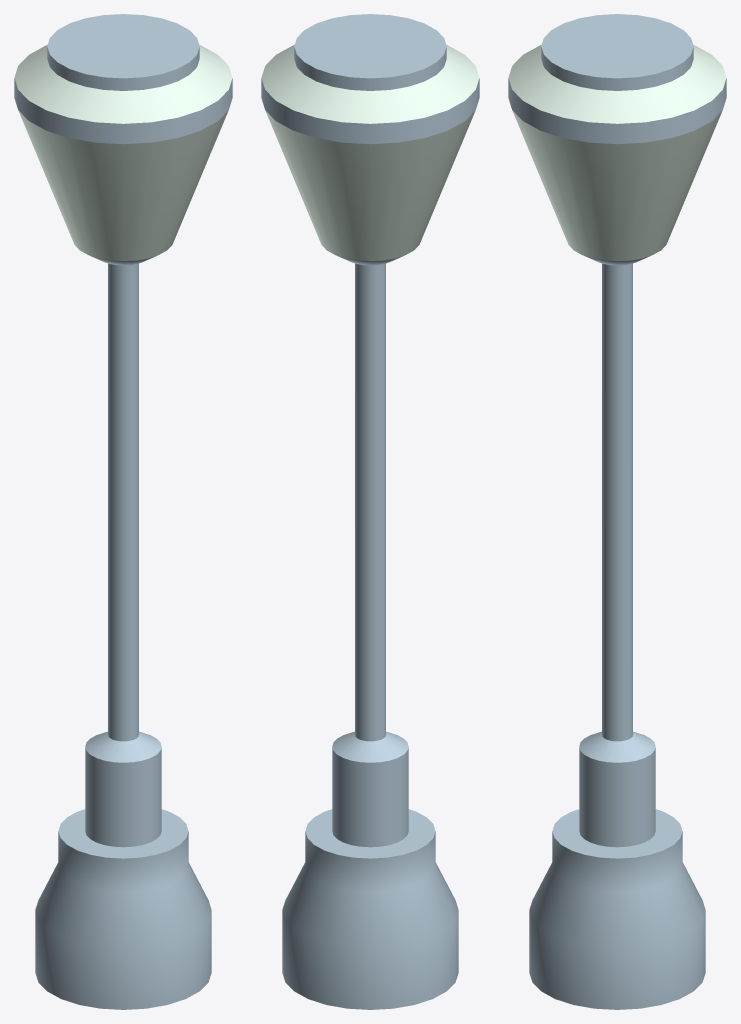
File: streetlight_03.fbx
The picture shows the model from 3 angles, left to right: view 1: azimuth 30°, elevation 25°; view 2: azimuth 150°, elevation 25°; view 3: azimuth 270°, elevation 25°; orthographic projection.
Parts seen in each view (by area): view 1: streetlight_03; view 2: streetlight_03; view 3: streetlight_03.
Part boxes in pixels (x1=…): streetlight_03: x1=14, y1=14, x2=232, y2=1009; streetlight_03: x1=261, y1=14, x2=479, y2=1009; streetlight_03: x1=508, y1=14, x2=726, y2=1009.
Bounding box in the file's own units: 1.15 × 5.41 × 1.15.
